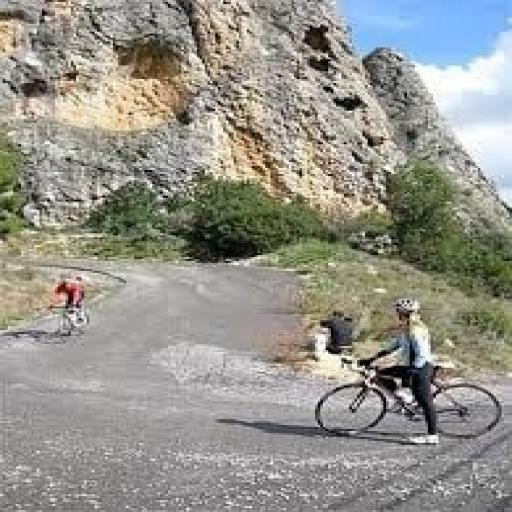cycling: (42, 271, 95, 338)
